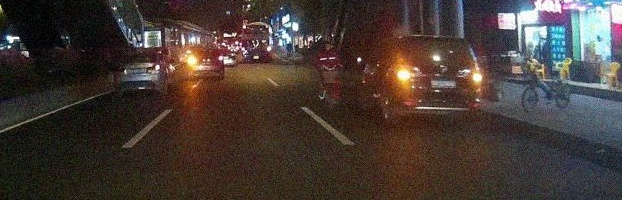L_light: (398, 69, 416, 77), (186, 57, 199, 63)
R_light: (463, 72, 482, 80), (212, 56, 223, 60)
T_light: (431, 38, 444, 43), (201, 47, 210, 49)
night-left: (390, 34, 483, 122), (181, 45, 224, 82)
